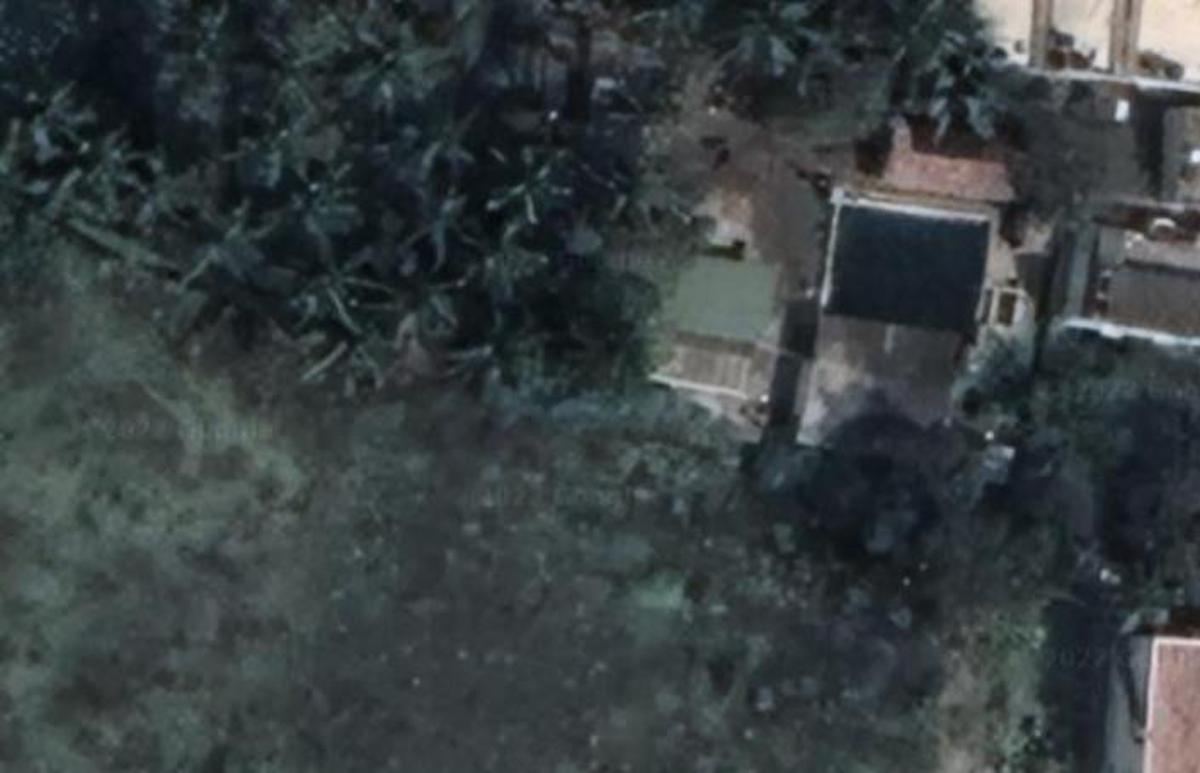coconut: (565, 301, 672, 400), (585, 144, 684, 245), (10, 76, 105, 173), (457, 306, 549, 403), (343, 17, 437, 108), (365, 243, 459, 332), (279, 156, 372, 245), (282, 240, 372, 326), (483, 137, 571, 223), (735, 0, 823, 86), (69, 129, 163, 209), (462, 224, 549, 308), (398, 177, 483, 260), (188, 199, 274, 280), (925, 5, 1011, 83), (405, 95, 485, 175), (313, 308, 396, 383), (925, 78, 990, 137)
